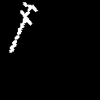double_crochet: (10, 2, 37, 51)
